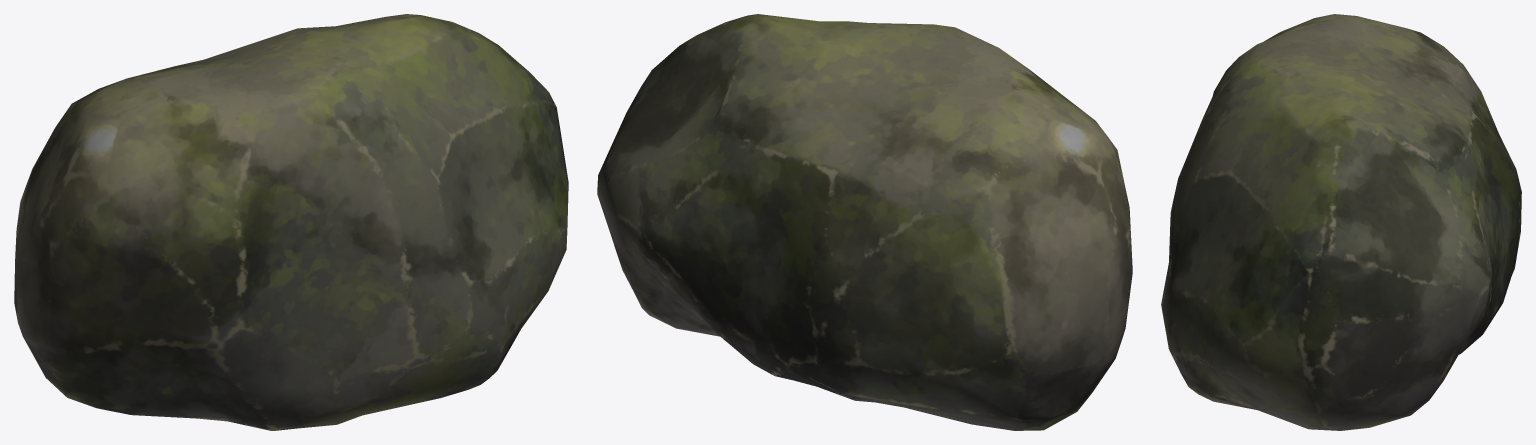
File: SM_Rock_04.fbx
3 renders of one model, left to right at view 1: azimuth 30°, elevation 25°; view 2: azimuth 150°, elevation 25°; view 3: azimuth 270°, elevation 25°, orthographic. The views are drawn at different scales.
Visible parts, largest first — view 1: SM_Rock_04_LOD0; view 2: SM_Rock_04_LOD0; view 3: SM_Rock_04_LOD0.
Boxes of the visible parts, bbox=[...] form: SM_Rock_04_LOD0: bbox=[14, 14, 568, 430]; SM_Rock_04_LOD0: bbox=[597, 14, 1132, 430]; SM_Rock_04_LOD0: bbox=[1161, 14, 1521, 430].
Bounding box in the file's own units: 353 × 238 × 229.
1 material, 1 textured.
